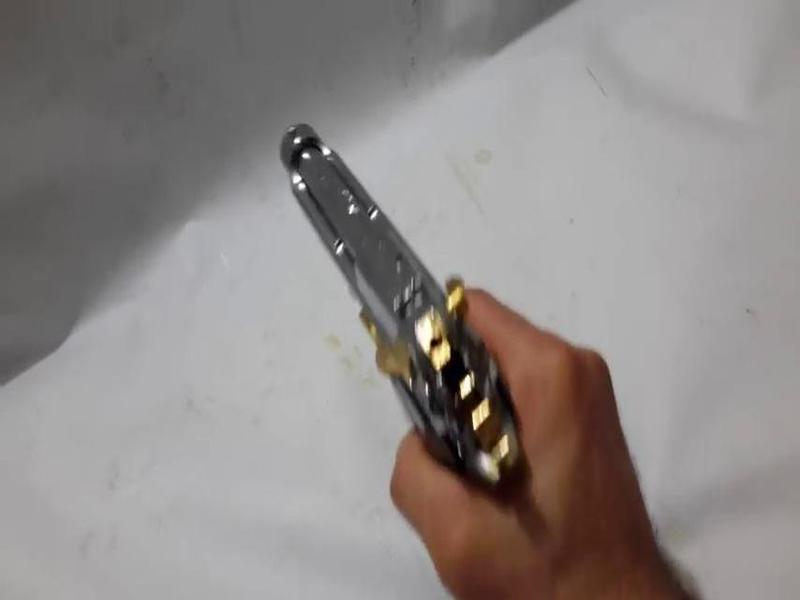Pistola: (274, 109, 568, 524)
